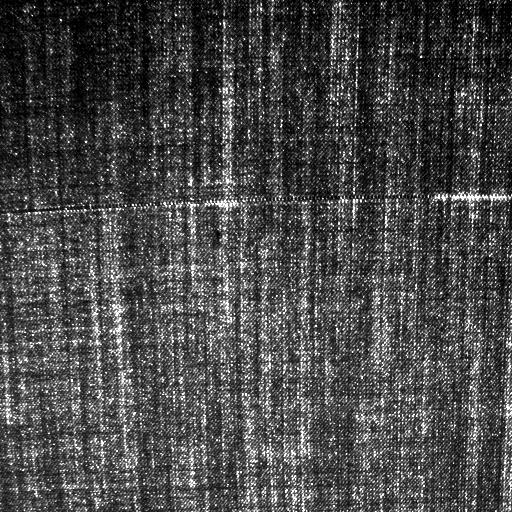fabric_broken_pick: (10, 182, 506, 220)
